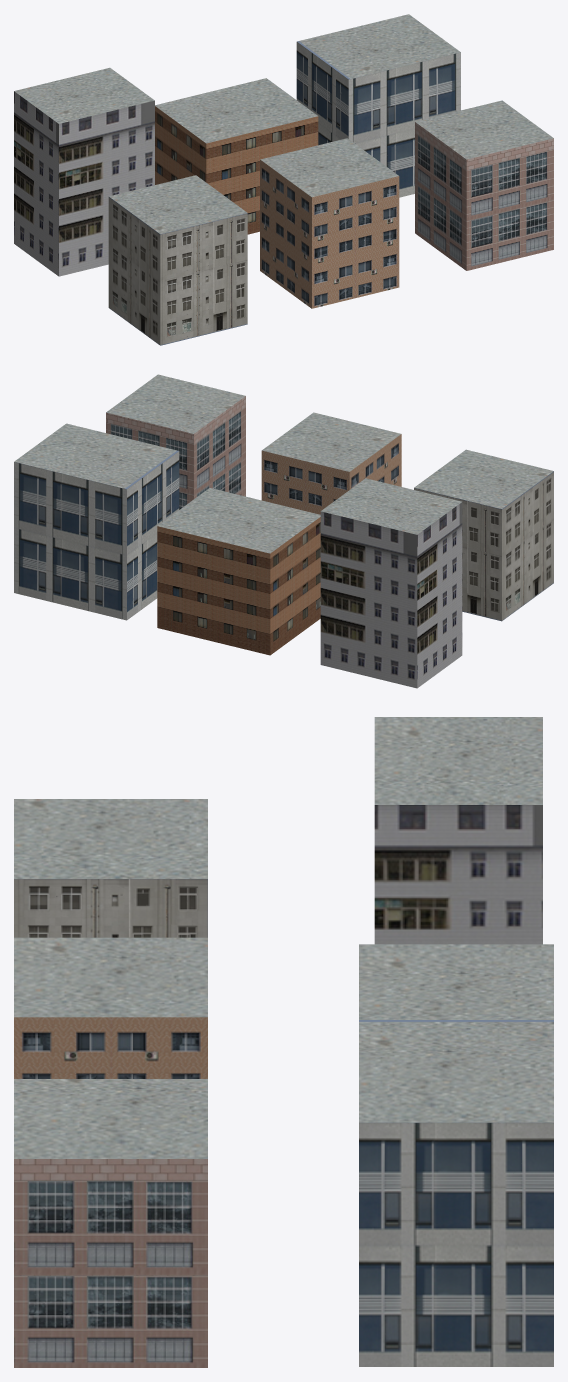
Rendered from duoge_qian05_init.FBX.
The picture shows the model from 3 angles, top to bottom: view 1: azimuth 30°, elevation 25°; view 2: azimuth 150°, elevation 25°; view 3: azimuth 270°, elevation 25°; orthographic projection. The views are drawn at different scales.
Parts seen in each view (by area): view 1: duoge_qian05_init; view 2: duoge_qian05_init; view 3: duoge_qian05_init.
Part boxes in pixels (x1,y1,x2,y2): duoge_qian05_init: (14, 14, 553, 345); duoge_qian05_init: (14, 374, 553, 688); duoge_qian05_init: (14, 717, 553, 1367).
Size of the model in its own units: 6775 by 2478 by 4239.
